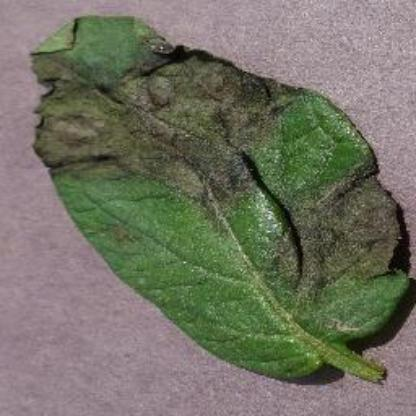Late-Blight: (20, 13, 412, 392)
